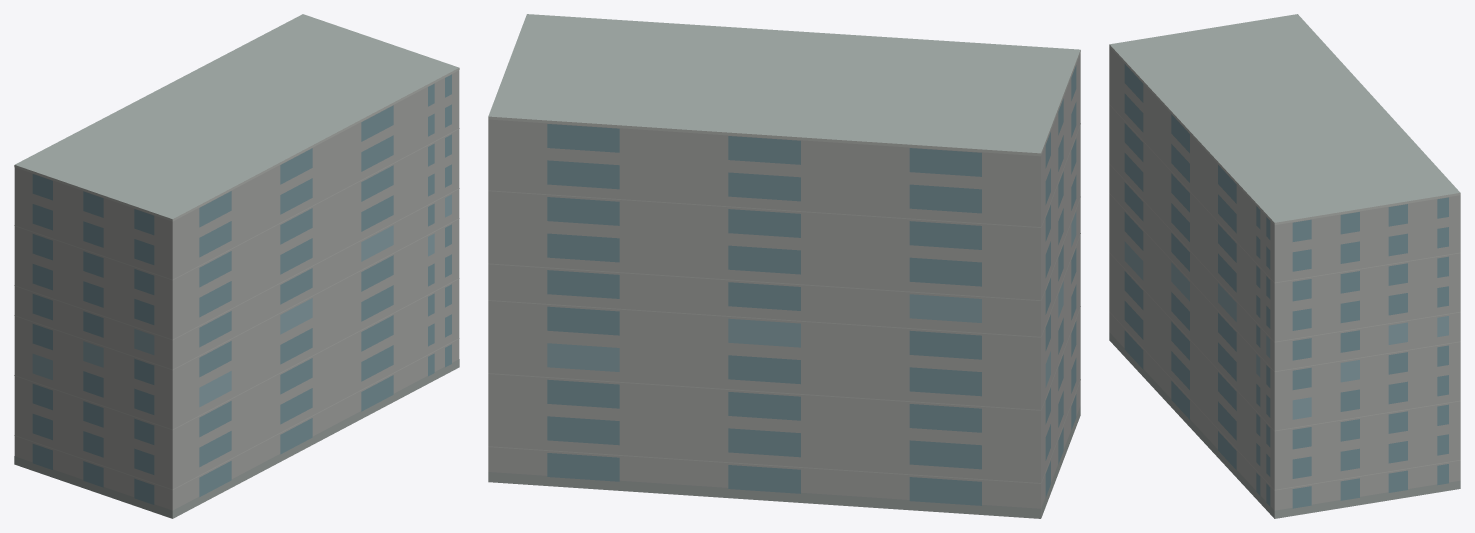
The model's file is survey-upis-32860082.glb.
3 views of the same model, side by side, from view 1: azimuth 30°, elevation 25°; view 2: azimuth 150°, elevation 25°; view 3: azimuth 270°, elevation 25° (orthographic). The views are drawn at different scales.
Parts seen in each view (by area): view 1: survey-upis-32860082.tmp; view 2: survey-upis-32860082.tmp; view 3: survey-upis-32860082.tmp.
Part boxes in pixels (x1,y1,x2,y2): survey-upis-32860082.tmp: (14, 14, 459, 518); survey-upis-32860082.tmp: (488, 14, 1080, 518); survey-upis-32860082.tmp: (1109, 14, 1460, 518).
Bounding box in the file's own units: 46.17 × 30.5 × 32.81.
